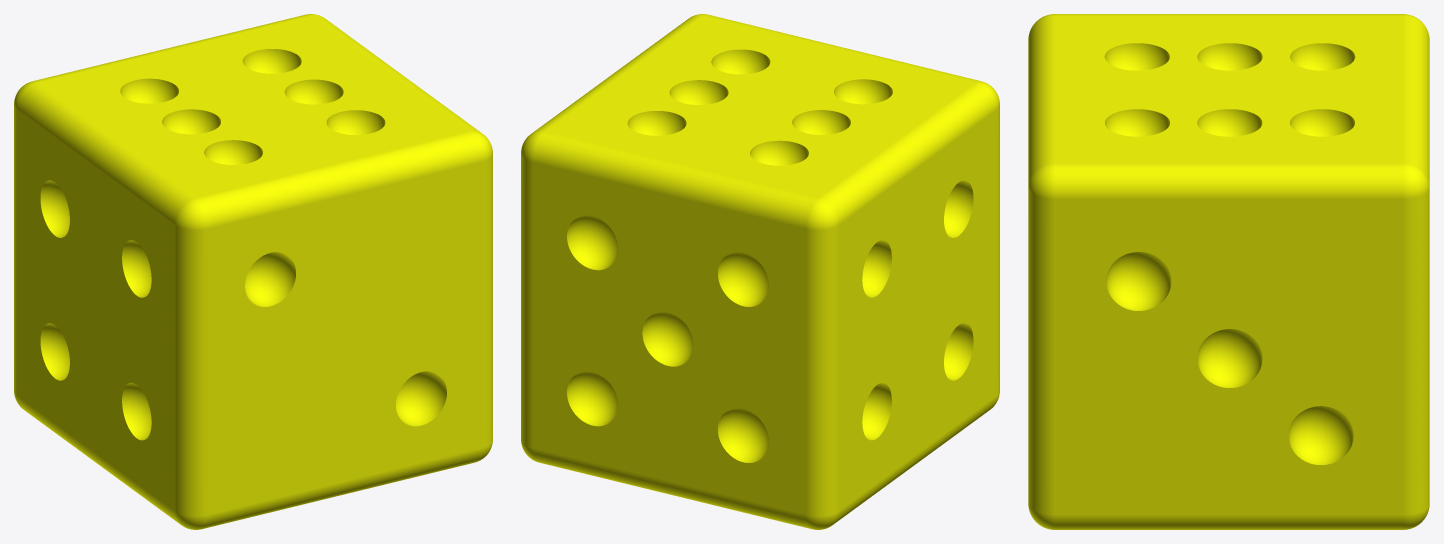
File: DiceModel.fbx
3 views of the same model, side by side, from view 1: azimuth 30°, elevation 25°; view 2: azimuth 150°, elevation 25°; view 3: azimuth 270°, elevation 25° (orthographic). The views are drawn at different scales.
Visible parts, largest first — view 1: 개체_1; view 2: 개체_1; view 3: 개체_1.
Boxes of the visible parts, left/top/right/bottom form: 개체_1: left=14, top=14, right=492, bottom=529; 개체_1: left=521, top=14, right=999, bottom=529; 개체_1: left=1028, top=14, right=1429, bottom=529.
Bounding box in the file's own units: 750 × 750 × 750.
